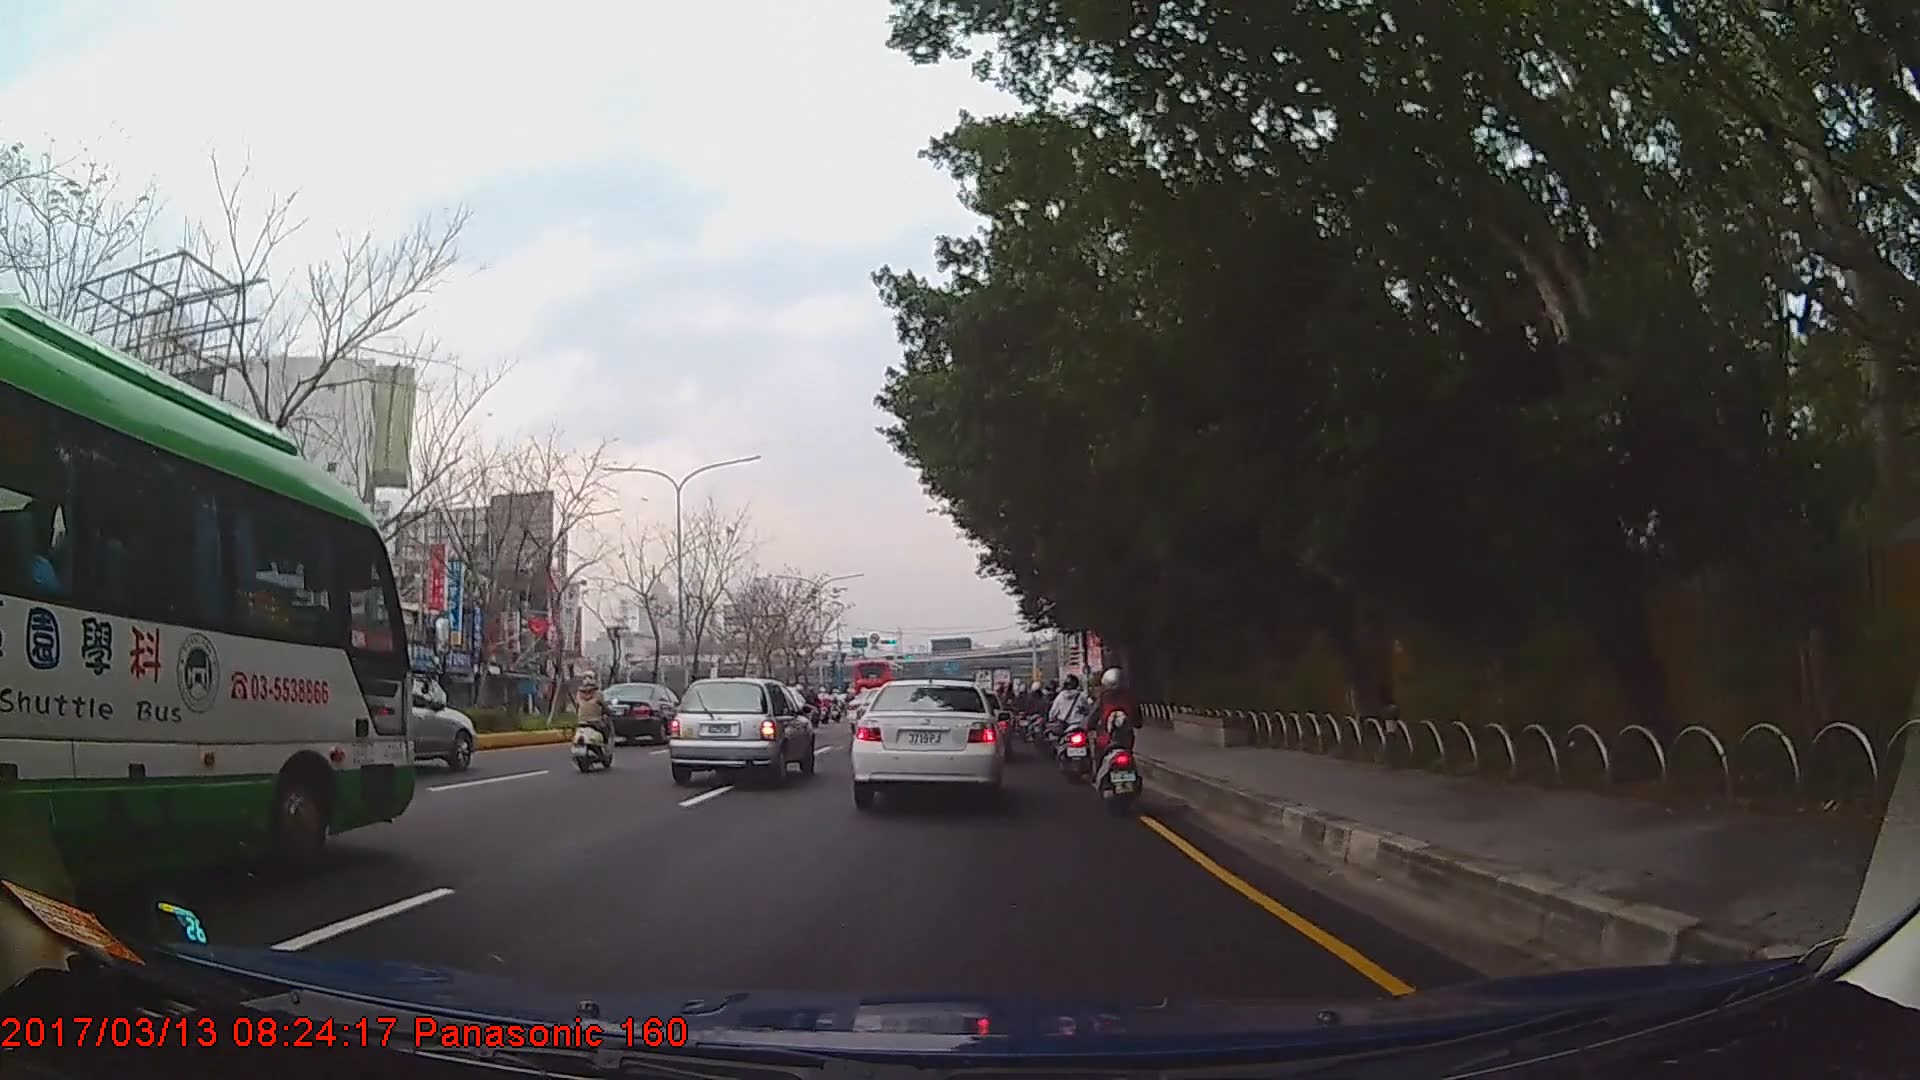rider: (1086, 662, 1149, 815), (1053, 674, 1097, 783), (574, 673, 616, 773), (1042, 680, 1065, 751)
vehicle: (0, 292, 417, 904), (847, 679, 1005, 808), (670, 675, 817, 786), (347, 676, 475, 771), (584, 680, 690, 745), (851, 655, 904, 705)
